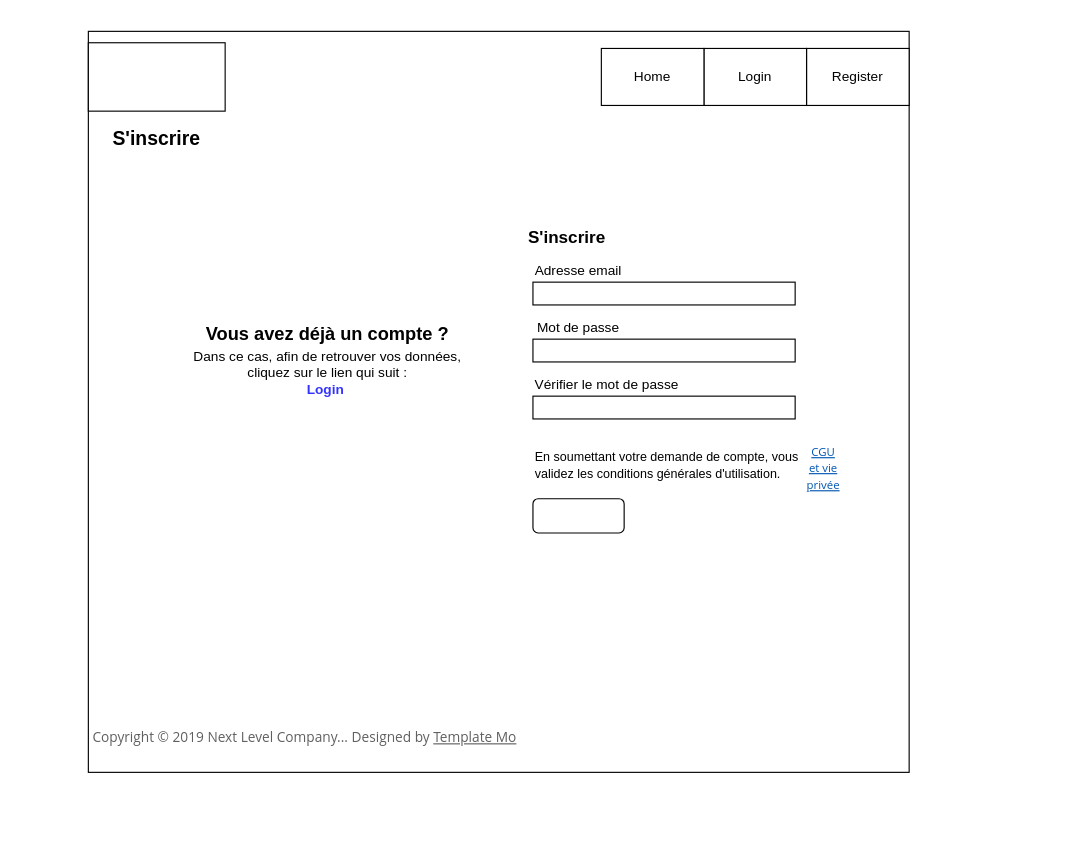
The diagram is 1088 pixels wide and 860 high, and some of its shapes have lost their labels. The box of each missing label's shape, as (x1, y1, x2, y2) in pixels:
Inscrivez-vous: (532, 498, 624, 533)
Nom / Logo: (87, 42, 225, 111)
